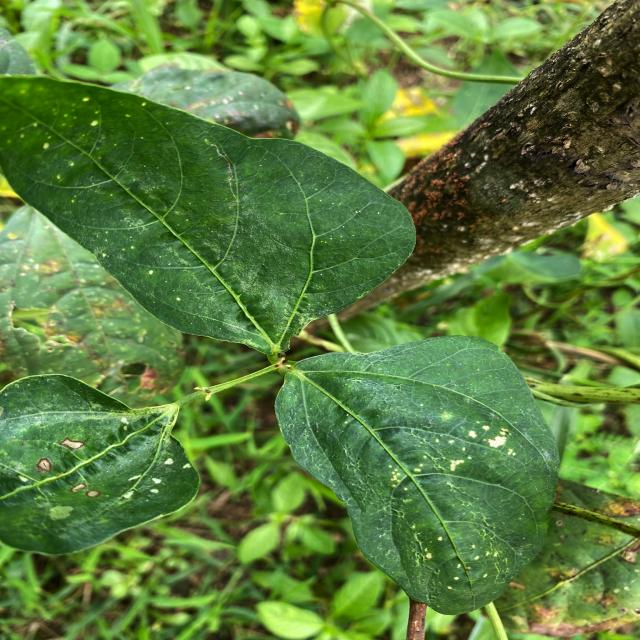sitaw-aphid-high: (0, 74, 415, 354), (275, 338, 559, 614), (0, 374, 204, 555)
sitaw-aphid-low: (0, 206, 183, 407), (530, 512, 640, 638), (556, 479, 640, 526)
